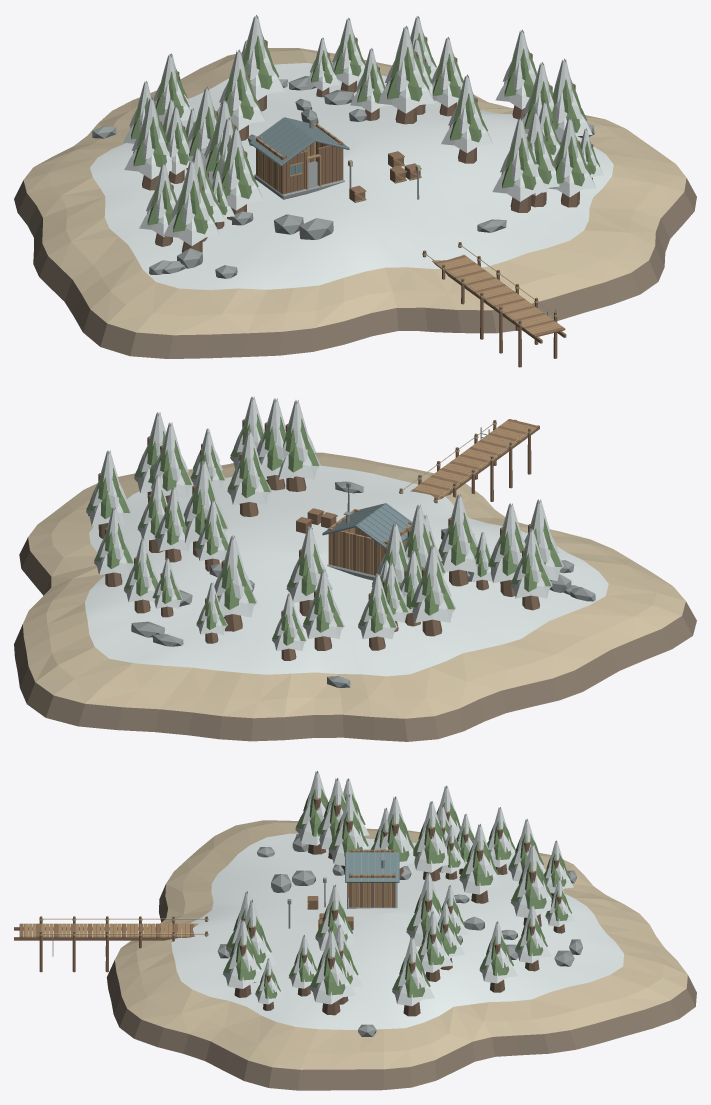
Rendered from Island_Snow_Original.fbx.
The picture shows the model from 3 angles, top to bottom: view 1: azimuth 30°, elevation 25°; view 2: azimuth 150°, elevation 25°; view 3: azimuth 270°, elevation 25°; orthographic projection. The views are drawn at different scales.
Visible parts, largest first — view 1: Terrain_Snow, VegetationAndRocks, HarbourCabin, FishingDock, HarbourProps; view 2: Terrain_Snow, VegetationAndRocks, FishingDock, HarbourCabin, HarbourProps; view 3: Terrain_Snow, VegetationAndRocks, FishingDock, HarbourCabin.
Boxes of the visible parts, x1,y1,x2,y2 form: Terrain_Snow: (14,48,696,358); VegetationAndRocks: (92,15,603,278); HarbourCabin: (249,116,349,199); FishingDock: (422,242,566,367); HarbourProps: (348,151,421,202); Terrain_Snow: (14,452,696,741); VegetationAndRocks: (86,396,595,687); FishingDock: (399,419,539,503); HarbourCabin: (322,503,412,580); HarbourProps: (296,481,350,533); Terrain_Snow: (106,820,696,1090); VegetationAndRocks: (217,771,582,1036); FishingDock: (14,916,208,972); HarbourCabin: (345,849,399,908).
Bounding box in the file's own units: 5145 × 1418 × 5775.
